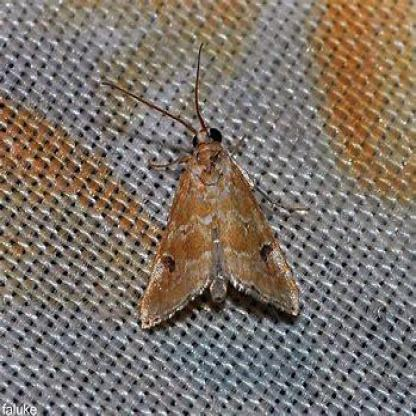Hellula undalis: (93, 27, 329, 333)
